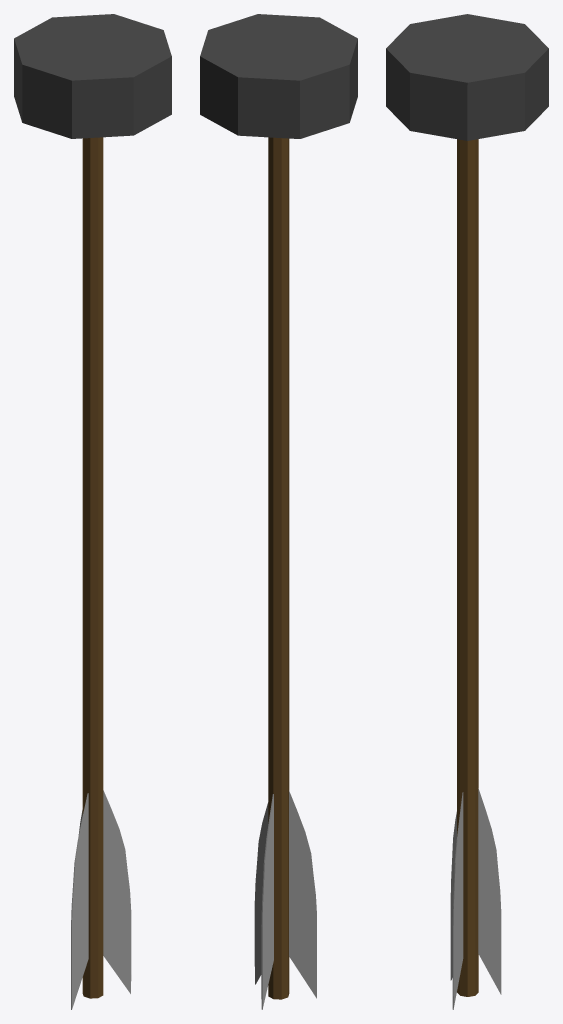
Rendered from ArrowLvl1.fbx.
The picture shows the model from 3 angles, left to right: view 1: azimuth 30°, elevation 25°; view 2: azimuth 150°, elevation 25°; view 3: azimuth 270°, elevation 25°; orthographic projection.
Visible parts, largest first — view 1: ArrowLvl1.001; view 2: ArrowLvl1.001; view 3: ArrowLvl1.001.
Boxes of the visible parts, box(x1,y1,x2,y2) form: ArrowLvl1.001: box(14, 14, 171, 1009); ArrowLvl1.001: box(200, 14, 357, 1009); ArrowLvl1.001: box(386, 14, 548, 1009).
Size of the model in its own units: 5.5 by 35.29 by 5.5.
